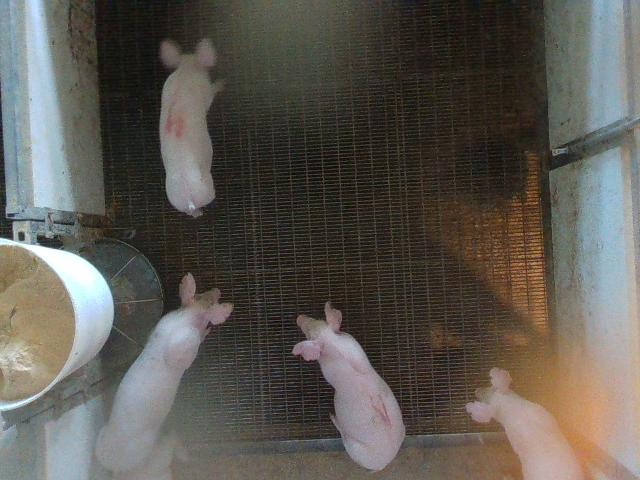pig-4: (159, 39, 222, 217)
